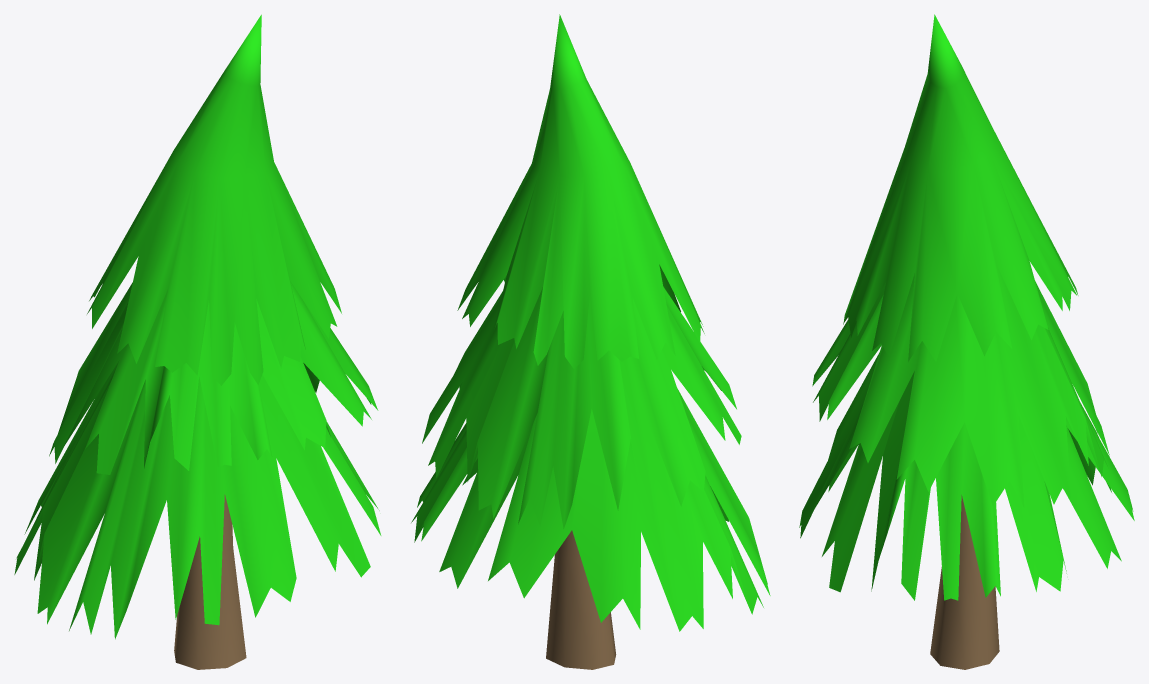
File: Tree.fbx
3 views of the same model, side by side, from view 1: azimuth 30°, elevation 25°; view 2: azimuth 150°, elevation 25°; view 3: azimuth 270°, elevation 25° (orthographic). The views are drawn at different scales.
Visible parts, largest first — view 1: tree; view 2: tree; view 3: tree.
Part boxes in pixels (left/top/right/bottom): tree: left=14, top=14, right=381, bottom=669; tree: left=411, top=14, right=770, bottom=669; tree: left=799, top=14, right=1134, bottom=669.
Size of the model in its own units: 247 by 461 by 213.
